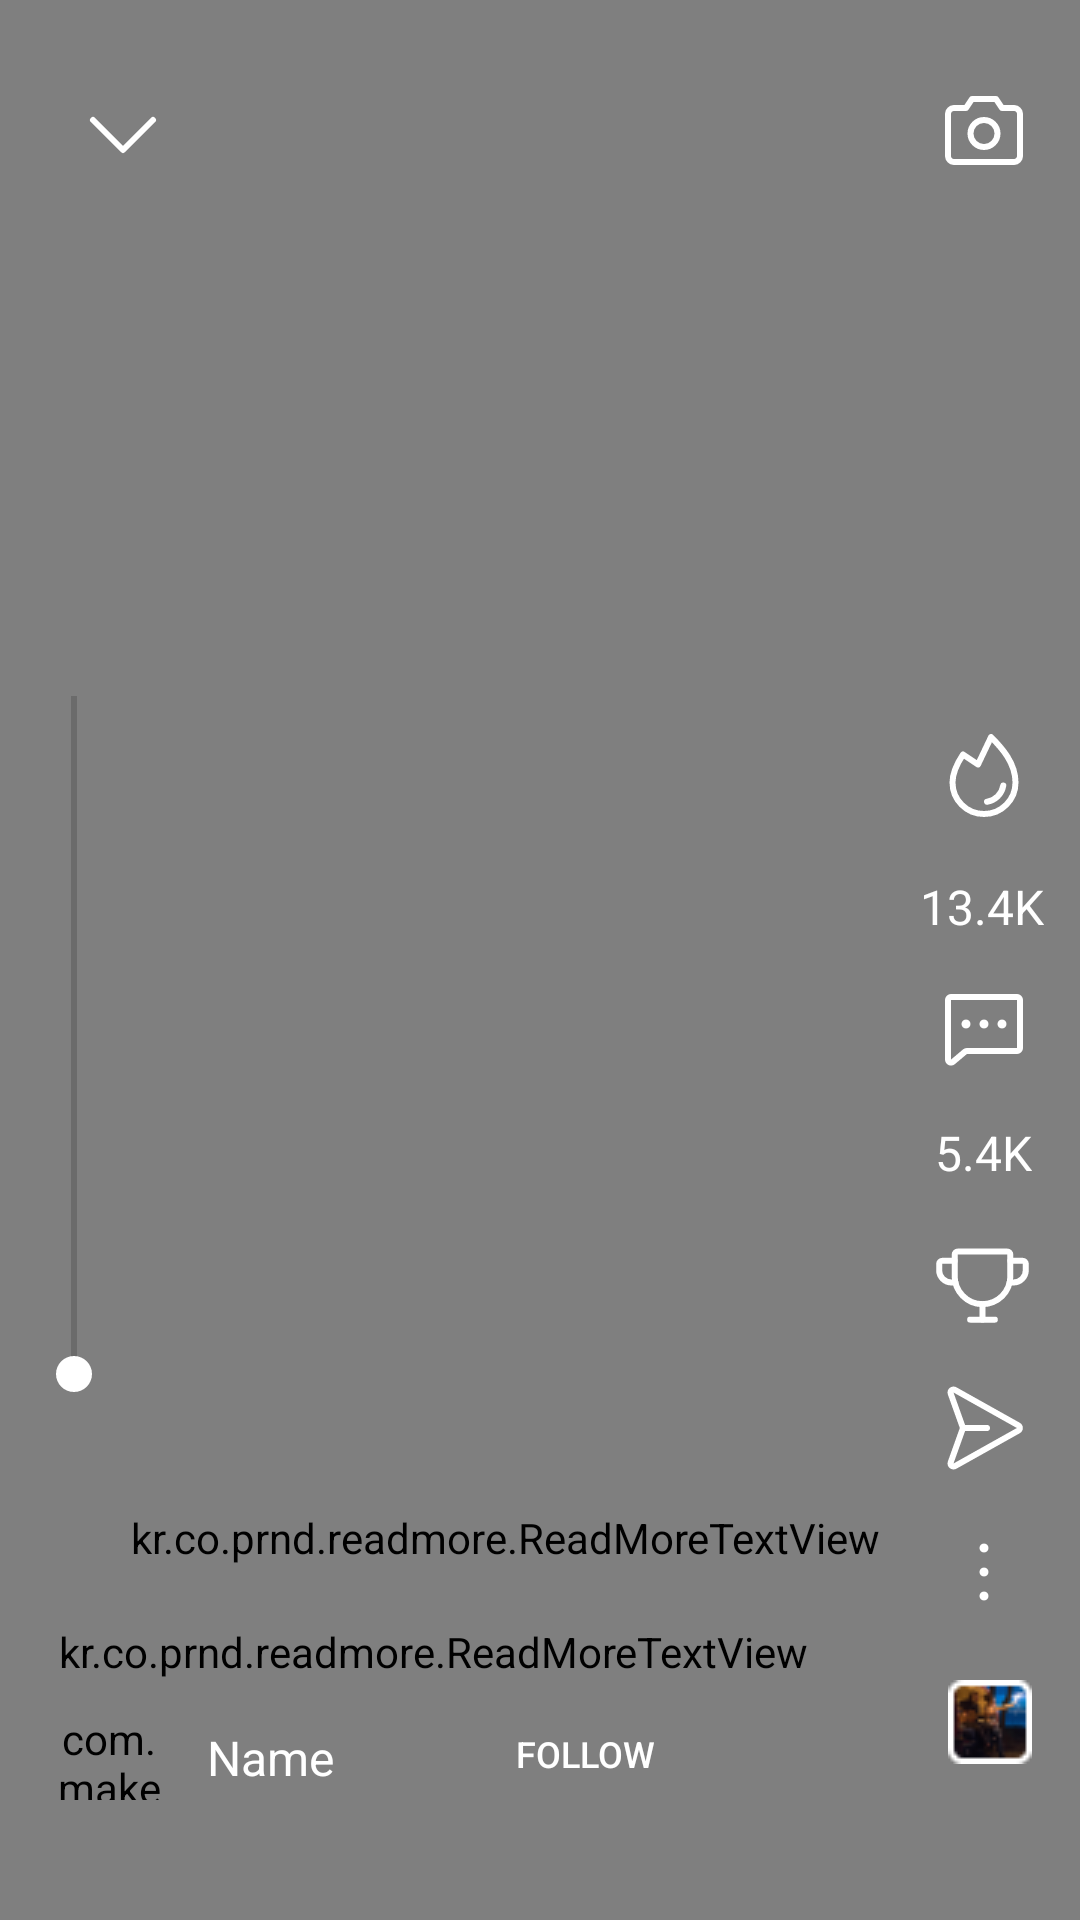

Screen size 1080px×1920px. Icon name, then its center in pixels as (x,y):
camera: (984,130)
comments: (984,1030)
like: (984,775)
music: (990,1722)
option: (984,1572)
share: (985,1428)
trophy: (982,1285)
